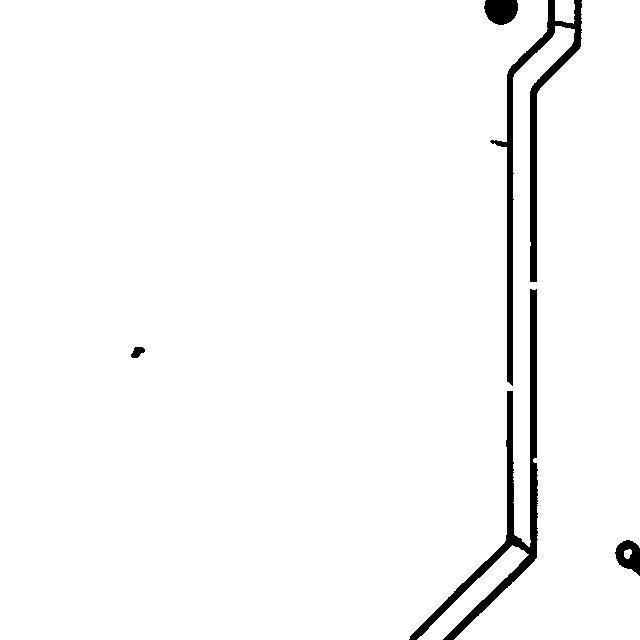copper: (123, 339, 152, 365)
mousebite: (525, 450, 545, 470)
open: (497, 374, 521, 398), (521, 274, 545, 297)
pin-hole: (616, 541, 639, 566)
short: (502, 526, 539, 561), (539, 13, 584, 36)
spur: (481, 131, 517, 154)
